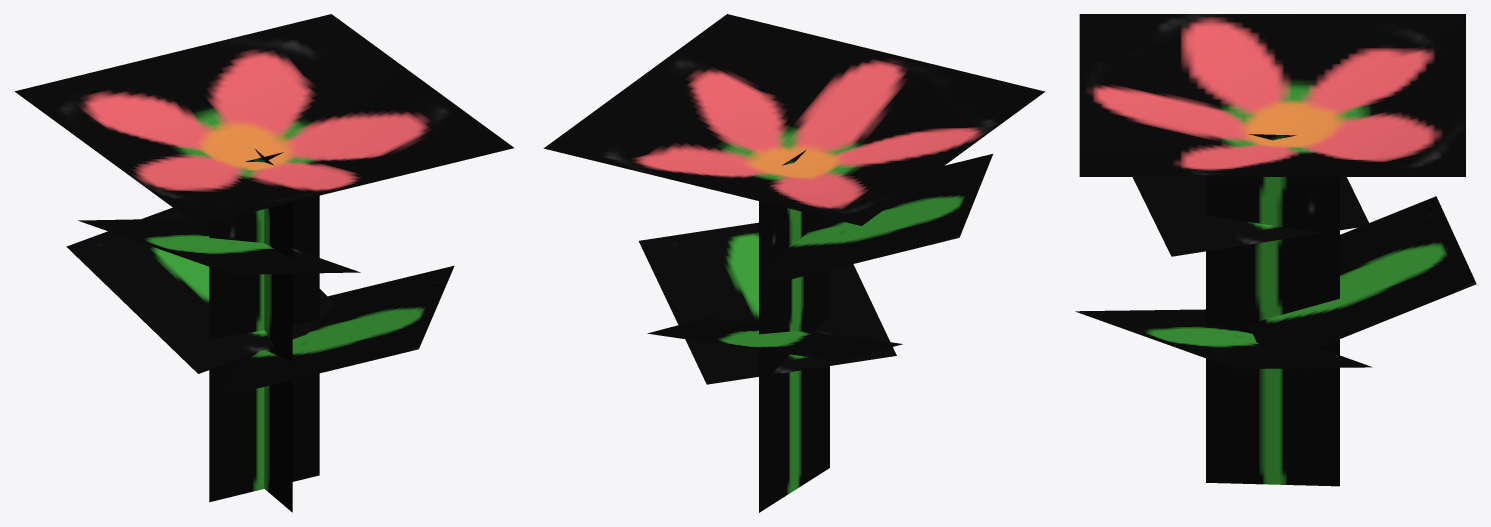
Rendered from Flower2.glb.
3 renders of one model, left to right at view 1: azimuth 30°, elevation 25°; view 2: azimuth 150°, elevation 25°; view 3: azimuth 270°, elevation 25°, orthographic. The views are drawn at different scales.
Parts seen in each view (by area): view 1: Flower; view 2: Flower; view 3: Flower.
Boxes of the visible parts, box(x1,y1,x2,y2) form: Flower: box(14, 14, 513, 512); Flower: box(543, 14, 1044, 512); Flower: box(1075, 14, 1476, 486).
Size of the model in its own units: 0.3862 by 0.3907 by 0.3664.
Materials: 1 (1 with a texture image).
